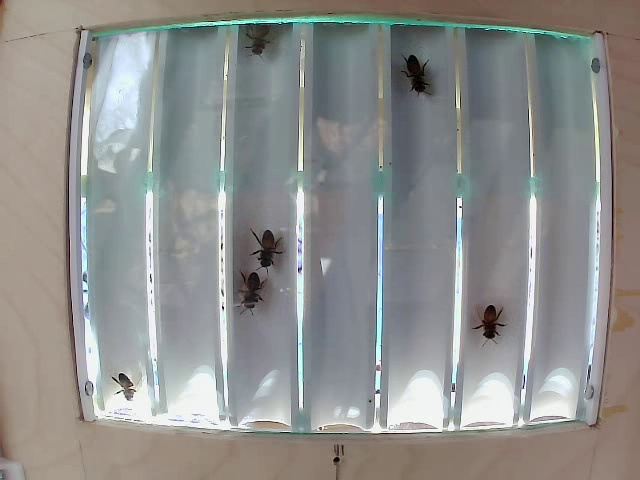bee: (230, 14, 282, 71), (397, 41, 439, 104), (470, 299, 513, 345), (236, 259, 272, 311), (259, 223, 296, 273)
